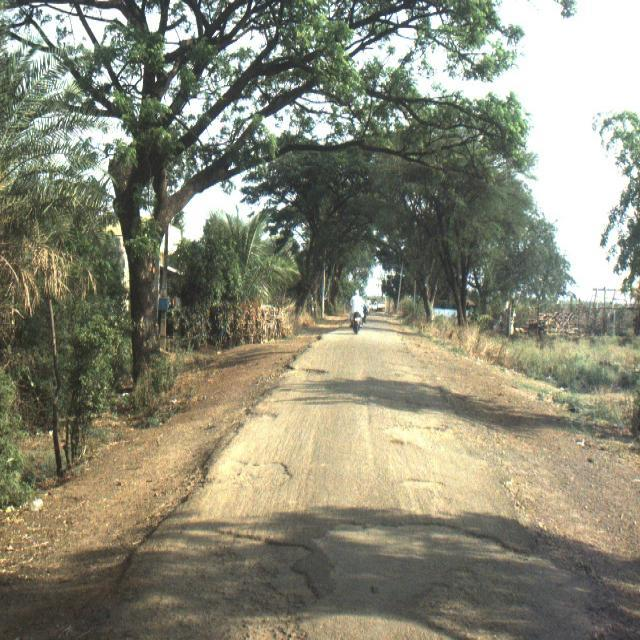pothole: (366, 514, 629, 640), (176, 508, 336, 640), (387, 399, 460, 511), (250, 432, 304, 511), (288, 344, 348, 404)
